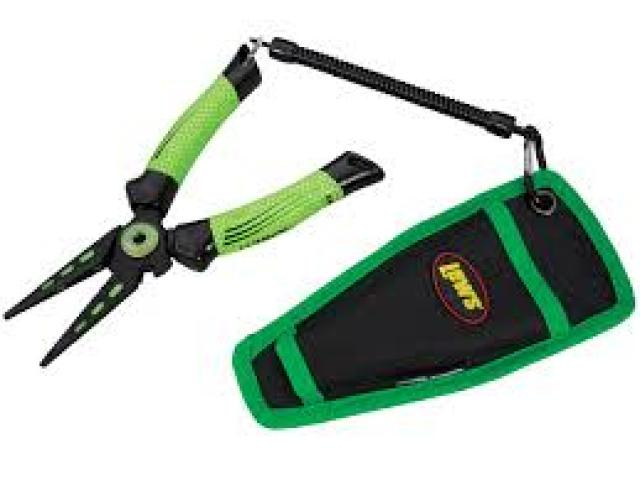Needle-nose pliers: (4, 42, 382, 365)
